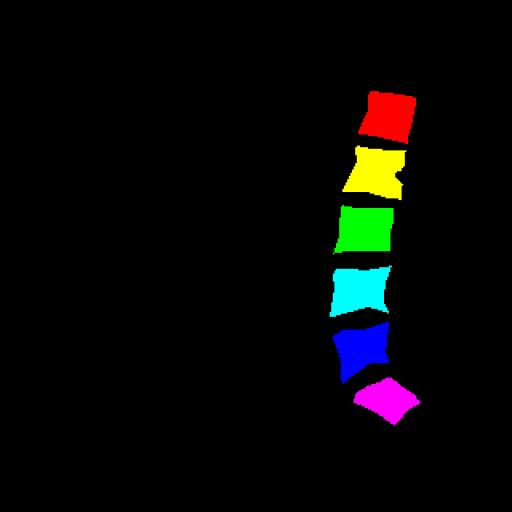L1: (358, 91, 416, 144)
L2: (342, 146, 406, 200)
L3: (334, 205, 394, 253)
L4: (330, 266, 391, 317)
L5: (333, 322, 389, 382)
S1: (353, 378, 420, 424)
